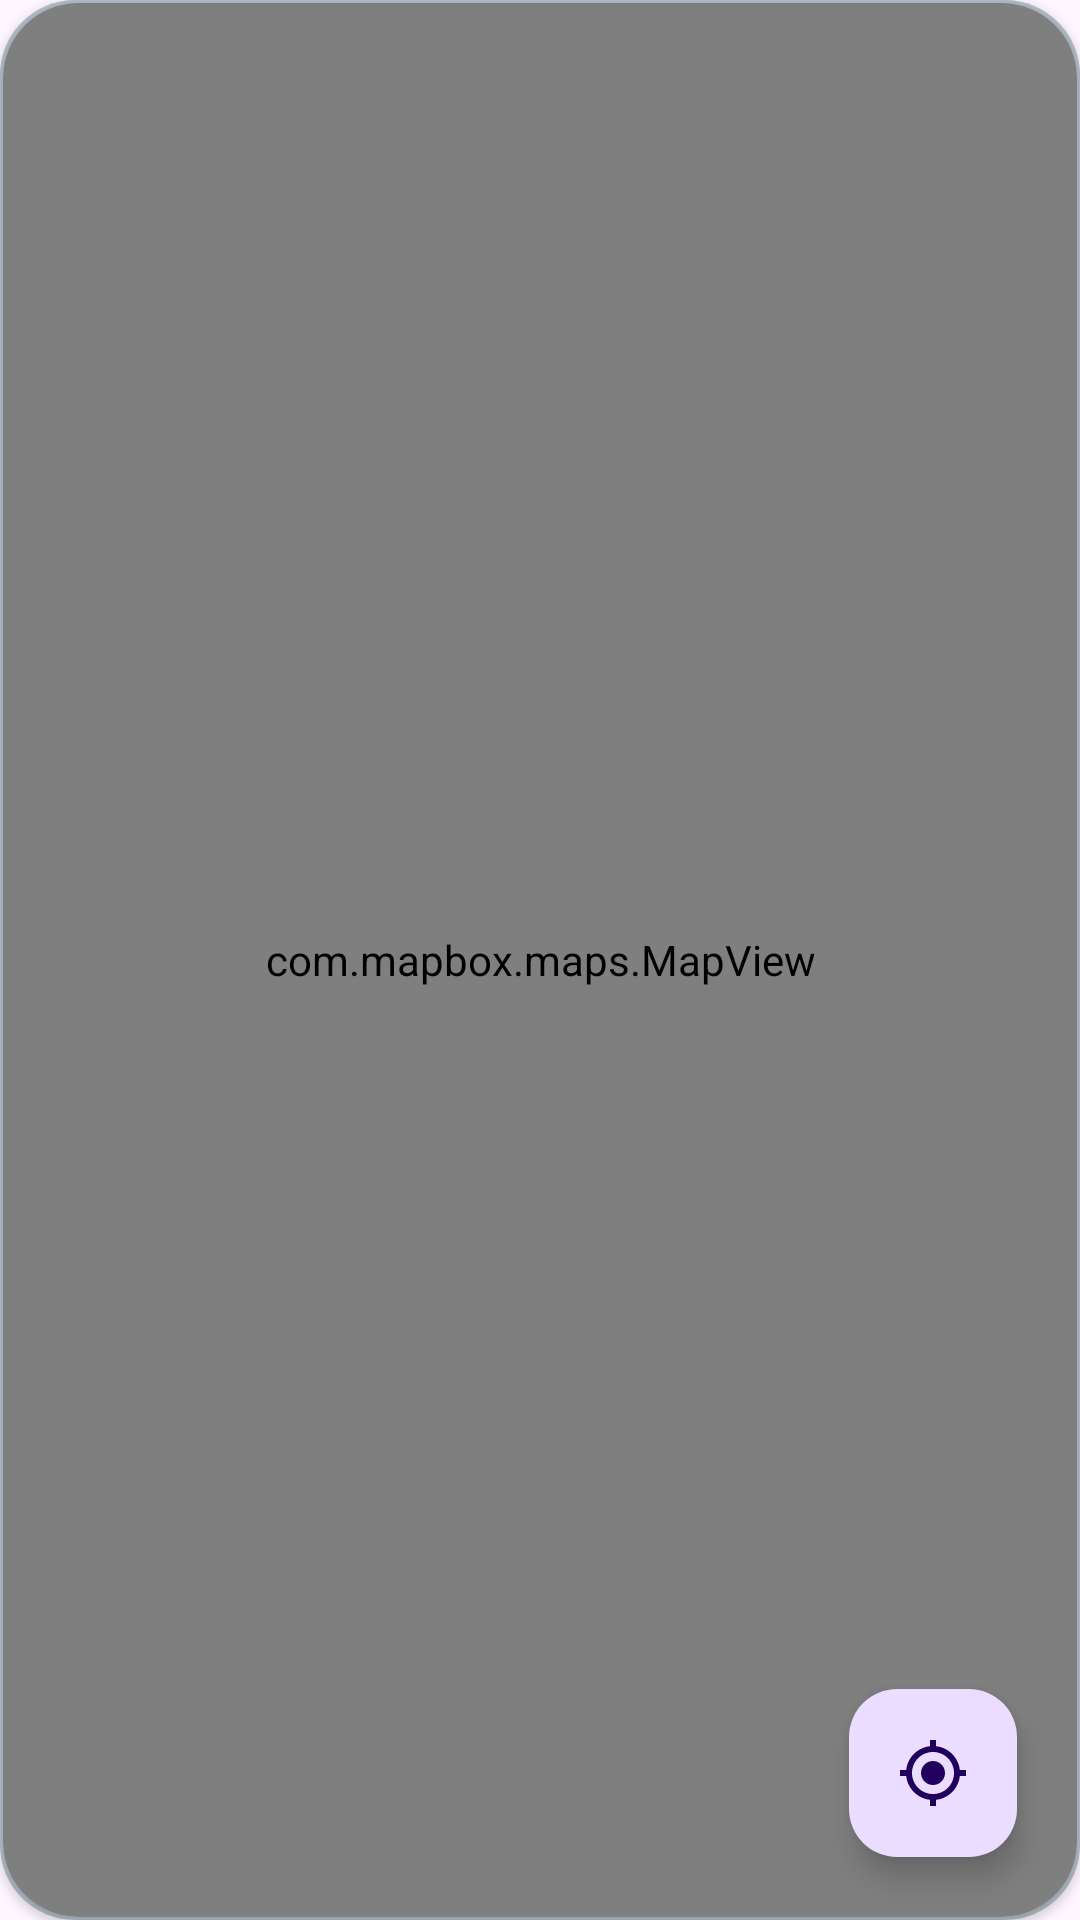

Named icons in this screenshot (1080px x 1920px) and their centers, (x,y):
location: (933,1773)
